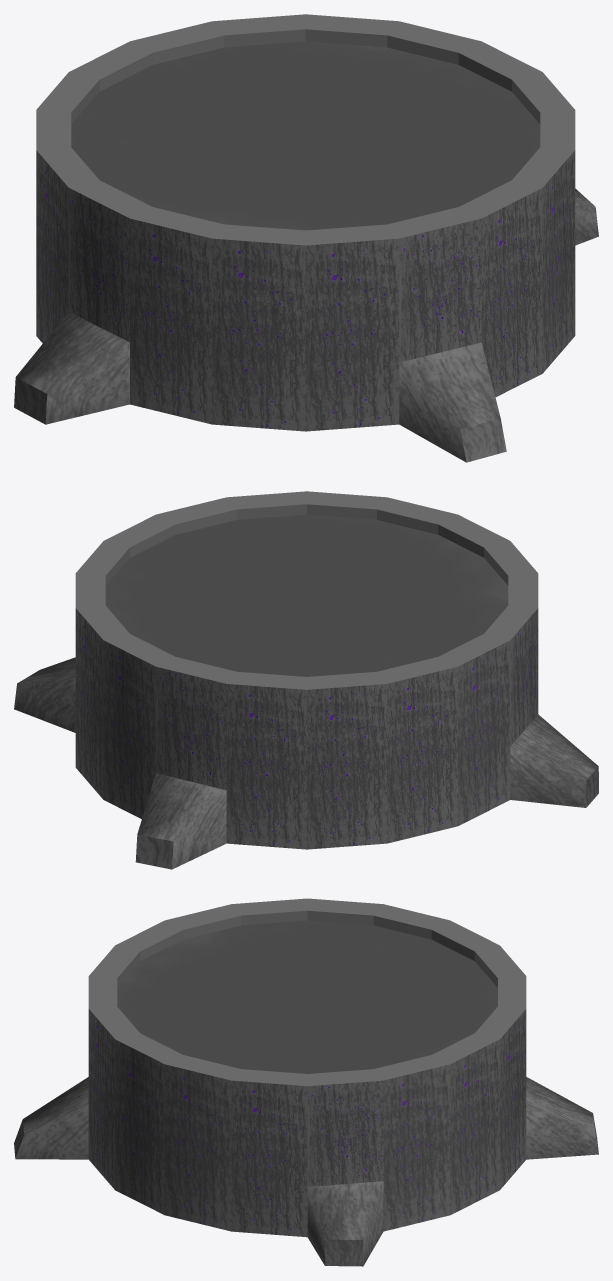
Rendered from Stump.fbx.
3 renders of one model, top to bottom at view 1: azimuth 30°, elevation 25°; view 2: azimuth 150°, elevation 25°; view 3: azimuth 270°, elevation 25°, orthographic. The views are drawn at different scales.
Visible parts, largest first — view 1: Cylinder001; view 2: Cylinder001; view 3: Cylinder001.
Boxes of the visible parts, x1,y1,x2,y2 form: Cylinder001: (14,14,598,462); Cylinder001: (14,491,598,869); Cylinder001: (14,898,598,1266).
Size of the model in its own units: 40.89 by 12.42 by 41.47.
1 material, 1 textured.
